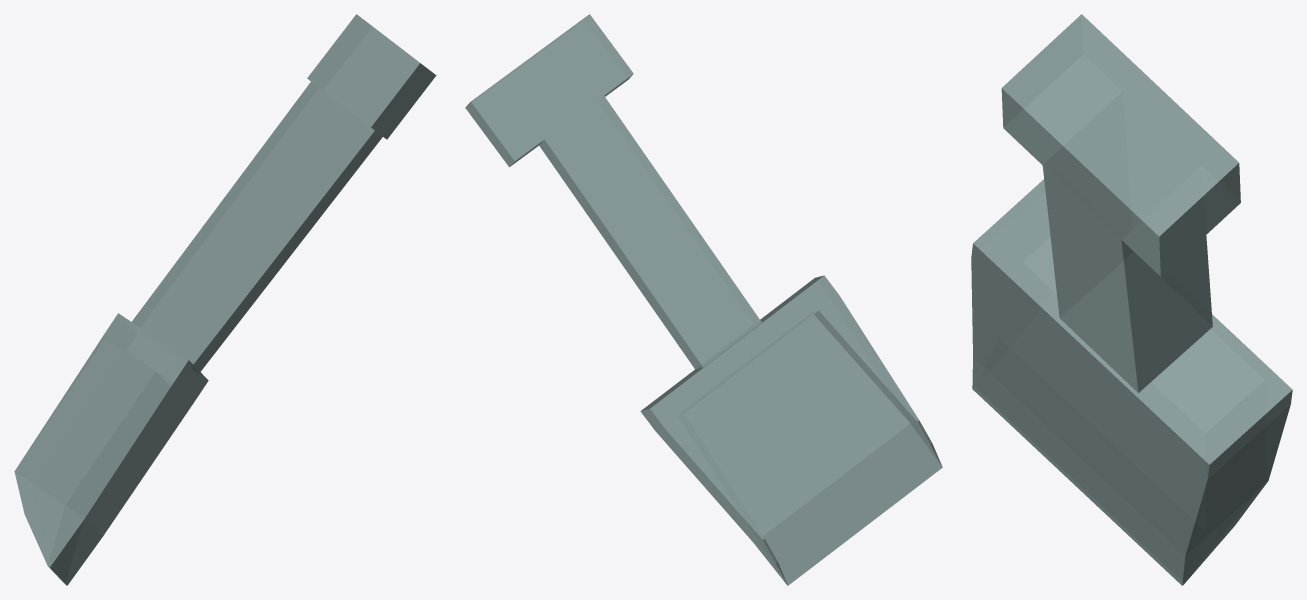
Rendered from spade.obj.
The picture shows the model from 3 angles, left to right: view 1: azimuth 30°, elevation 25°; view 2: azimuth 150°, elevation 25°; view 3: azimuth 270°, elevation 25°; orthographic projection. The views are drawn at different scales.
Parts seen in each view (by area): view 1: Cube.036_Cube.1442; view 2: Cube.036_Cube.1442; view 3: Cube.036_Cube.1442.
Part boxes in pixels (x1,y1,x2,y2): Cube.036_Cube.1442: [14, 14, 436, 585]; Cube.036_Cube.1442: [465, 14, 942, 585]; Cube.036_Cube.1442: [971, 14, 1292, 585].
Bounding box in the file's own units: 1.7 × 1.9 × 0.7439.
